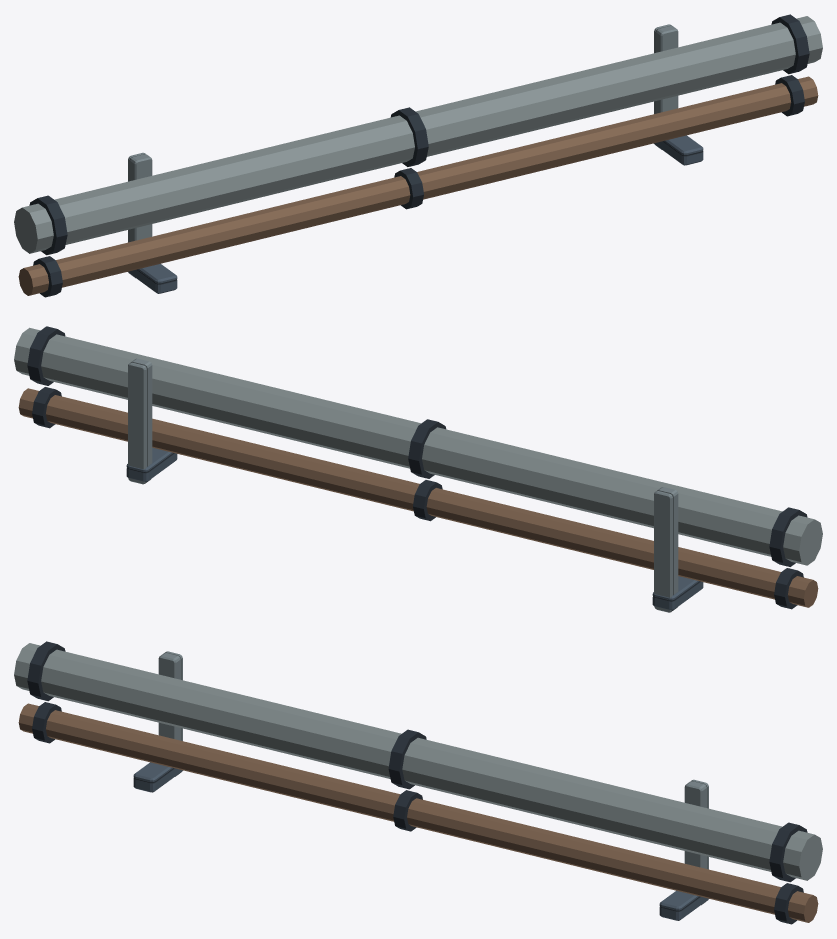
The model's file is HV-03_paired_header.glb.
The picture shows the model from 3 angles, top to bottom: view 1: azimuth 30°, elevation 25°; view 2: azimuth 150°, elevation 25°; view 3: azimuth 330°, elevation 25°; orthographic projection.
Parts seen in each view (by area): view 1: HV-03_paired_header; view 2: HV-03_paired_header; view 3: HV-03_paired_header.
Boxes of the visible parts, x1,y1,x2,y2 form: HV-03_paired_header: (14,14,822,297); HV-03_paired_header: (14,326,822,612); HV-03_paired_header: (14,641,822,924).
Size of the model in its own units: 8 by 1.15 by 0.604.
